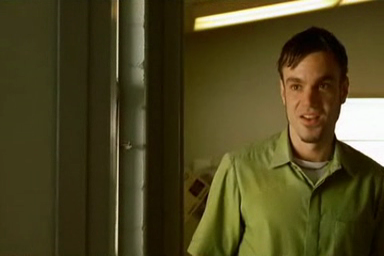face: (281, 67, 339, 143)
mcu: (1, 1, 384, 256)
person: (185, 25, 384, 256)
